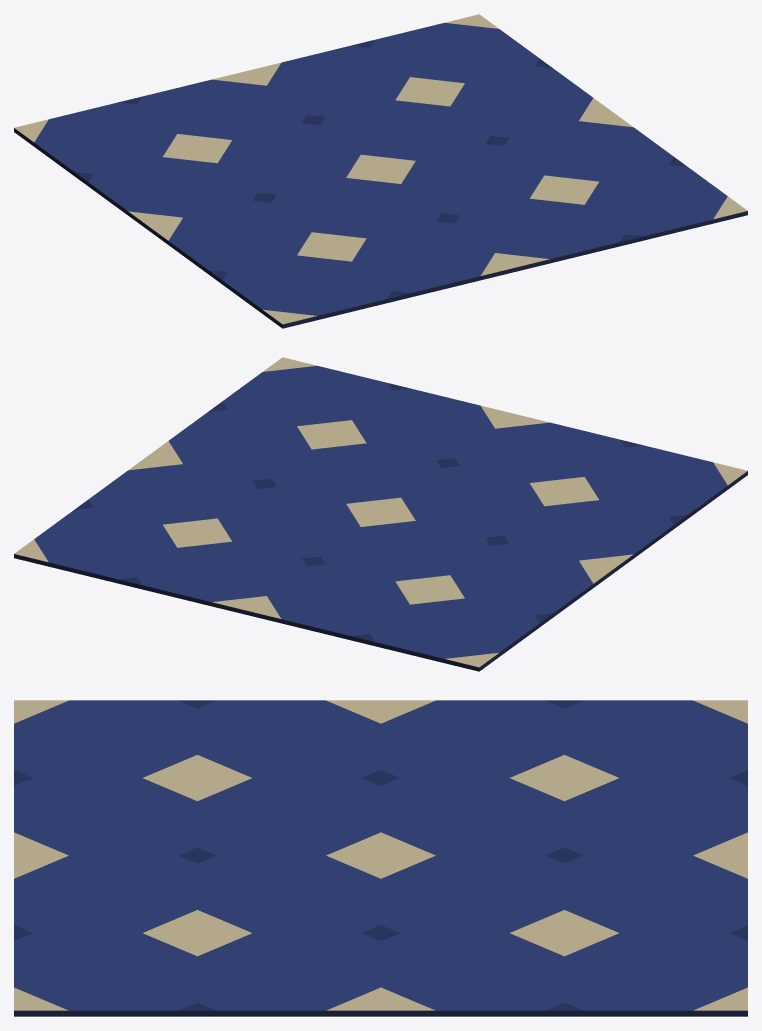
Rendered from carpet_blue_center_A.glb.
3 renders of one model, top to bottom at view 1: azimuth 30°, elevation 25°; view 2: azimuth 150°, elevation 25°; view 3: azimuth 270°, elevation 25°, orthographic. The views are drawn at different scales.
Parts seen in each view (by area): view 1: Item; view 2: Item; view 3: Item.
Part boxes in pixels (left/top/right/bottom): Item: left=14, top=14, right=747, bottom=328; Item: left=14, top=357, right=747, bottom=671; Item: left=14, top=700, right=747, bottom=1016.
Size of the model in its own units: 4 by 0.035 by 4.
Materials: 1 (1 with a texture image).
